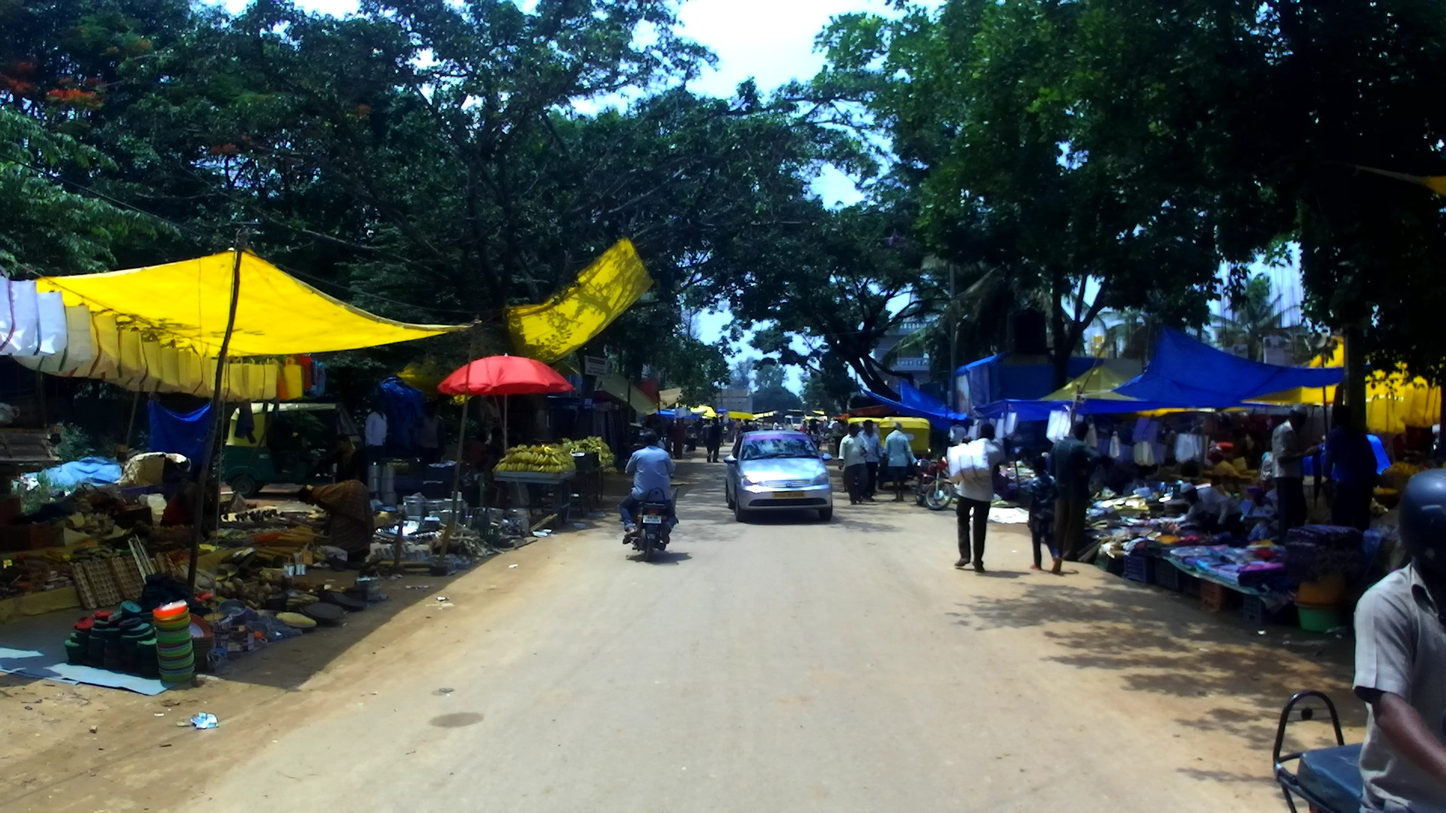autorickshaw: (221, 403, 367, 497), (876, 416, 932, 489), (848, 417, 885, 437)
bicycle: (841, 464, 847, 492)
car: (723, 431, 834, 522)
motorcycle: (1273, 689, 1374, 813), (618, 473, 681, 562), (911, 447, 955, 510), (804, 428, 822, 450), (763, 424, 786, 431)
person: (947, 422, 1002, 573), (1048, 422, 1102, 561), (1320, 406, 1378, 530), (296, 480, 376, 563), (1272, 406, 1319, 539), (161, 463, 220, 541), (1026, 454, 1063, 573), (1179, 483, 1244, 539), (883, 421, 919, 503), (838, 422, 870, 504), (856, 419, 884, 501), (327, 434, 368, 485), (418, 404, 447, 463), (365, 400, 389, 463), (463, 430, 493, 469), (483, 426, 505, 476), (1091, 455, 1120, 489), (1257, 443, 1274, 493), (706, 416, 722, 462), (991, 464, 1010, 501), (831, 418, 847, 458), (670, 417, 685, 459), (947, 418, 968, 448), (1162, 423, 1176, 465), (1251, 432, 1266, 470), (1232, 428, 1247, 458), (508, 425, 525, 446), (731, 418, 744, 443), (716, 416, 725, 446), (702, 419, 712, 446), (695, 417, 704, 446), (725, 418, 734, 443), (1246, 429, 1255, 453), (665, 424, 676, 443), (655, 434, 667, 450), (799, 419, 809, 432), (822, 418, 829, 436), (654, 419, 662, 434), (752, 418, 760, 432), (645, 419, 653, 430), (1184, 425, 1193, 434), (1178, 427, 1188, 434)
rider: (1357, 469, 1446, 813), (618, 429, 679, 545), (737, 419, 755, 434), (807, 419, 822, 436), (772, 419, 784, 431)
truck: (1, 355, 64, 495), (763, 406, 805, 429)
vehicle fallback: (493, 472, 577, 529), (571, 468, 606, 518)
